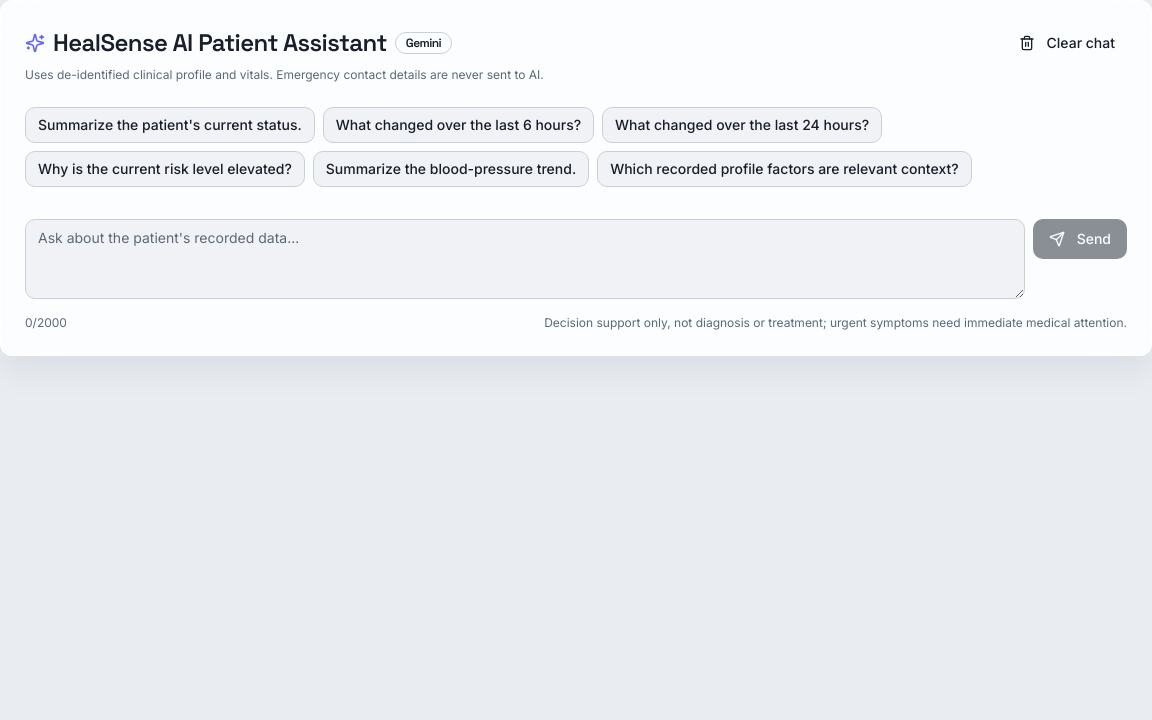
Test: PatientAssistantPanel › sends a suggestion and renders answer metadata
Click the button "Summarize the patient's current status." at (170, 125), box [25, 107, 315, 143]
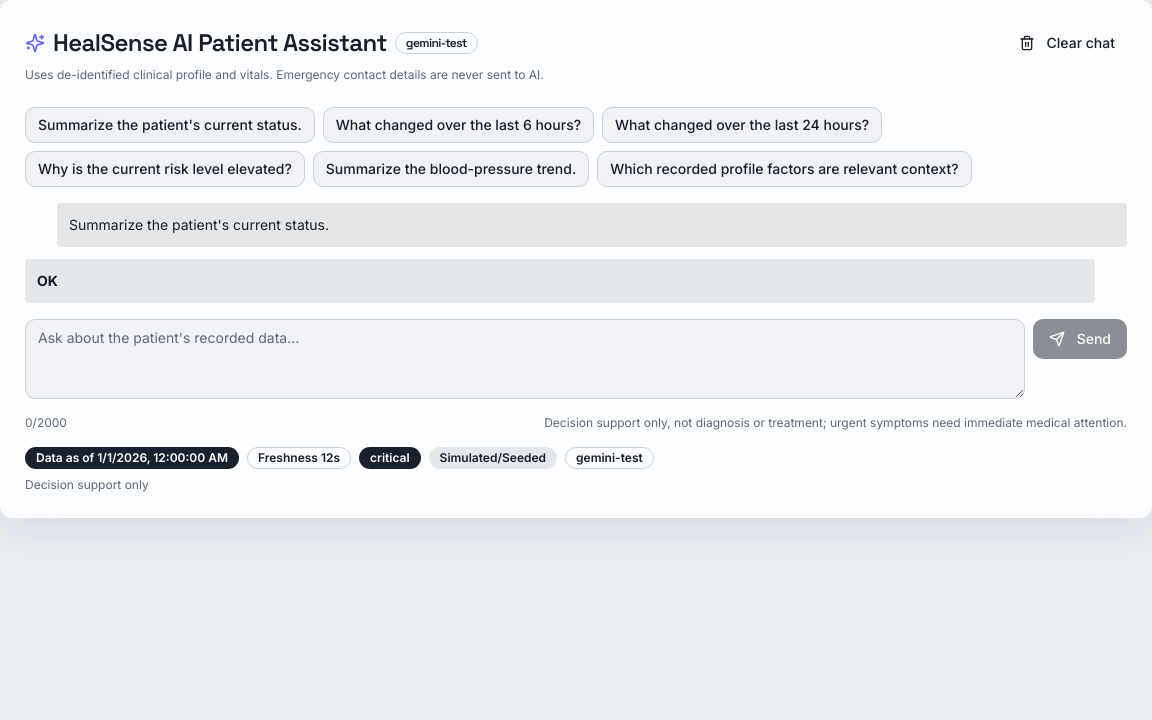
expect the text "OK" is shown: met, box [37, 272, 58, 289]
expect the text "Simulated/Seeded" is shown: met, box [429, 447, 557, 469]
expect the text "Decision support only" is shown: met, box [25, 477, 149, 492]
